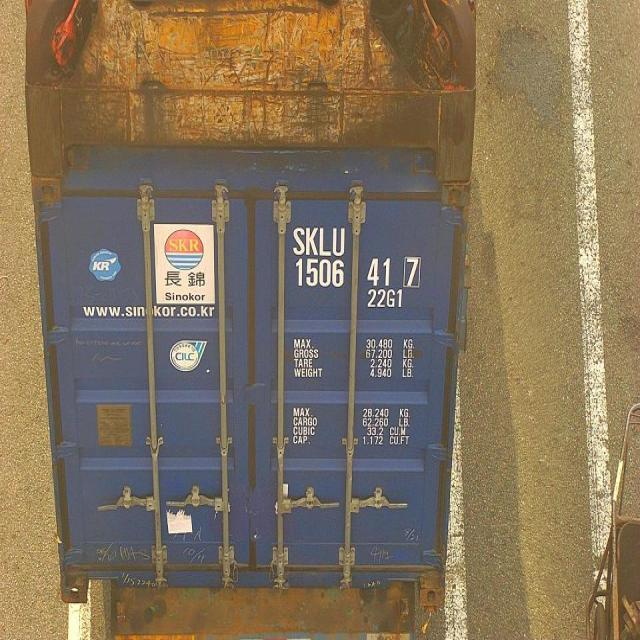ISO: (368, 288, 404, 310)
container_number: (297, 230, 423, 284)
